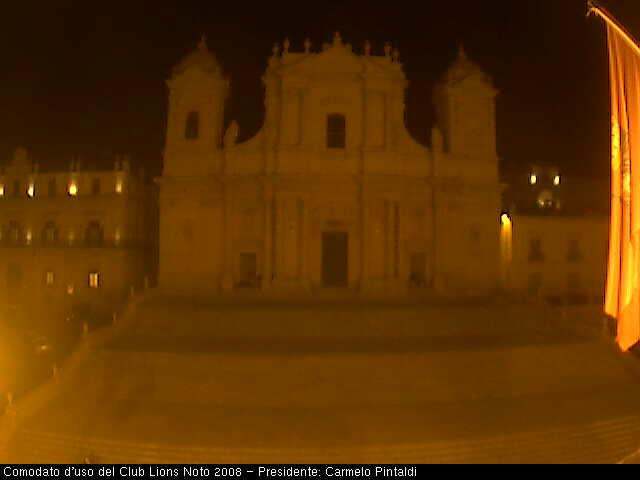person: (80, 452, 102, 465), (408, 273, 415, 292), (255, 272, 261, 289), (416, 281, 425, 291), (248, 280, 256, 290), (240, 281, 247, 290)
